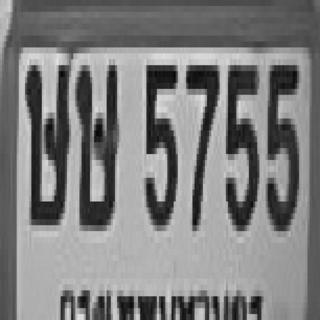A39: (23, 59, 69, 225), (75, 59, 117, 225)
N05: (142, 59, 176, 225), (224, 59, 257, 225), (264, 59, 297, 225)
N07: (184, 59, 218, 225)
